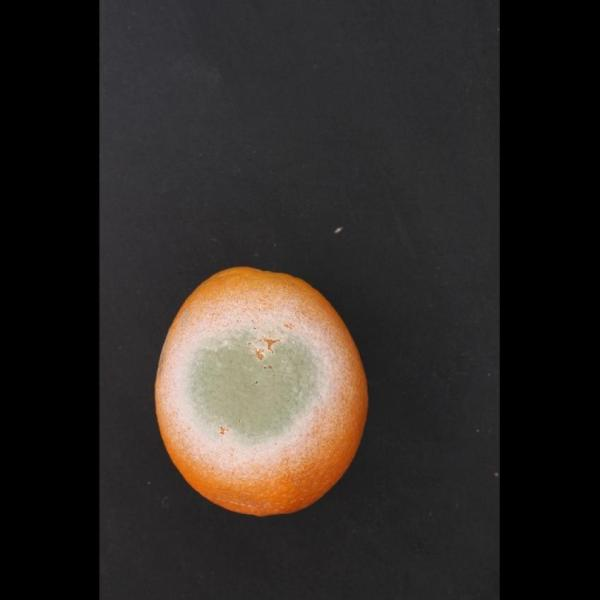Moho verde: (147, 252, 377, 526)
